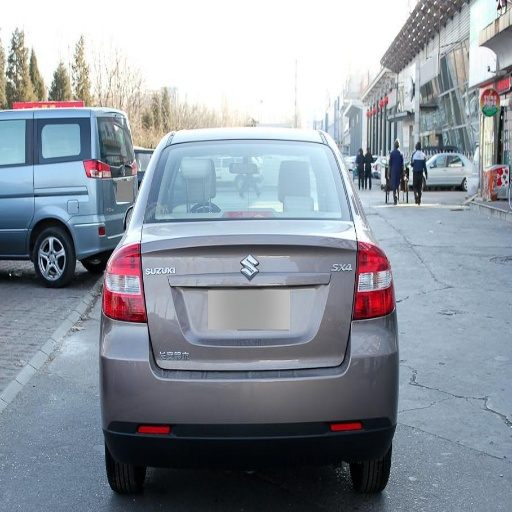back_bumper: (103, 309, 398, 463)
tailgate: (143, 219, 355, 366)
